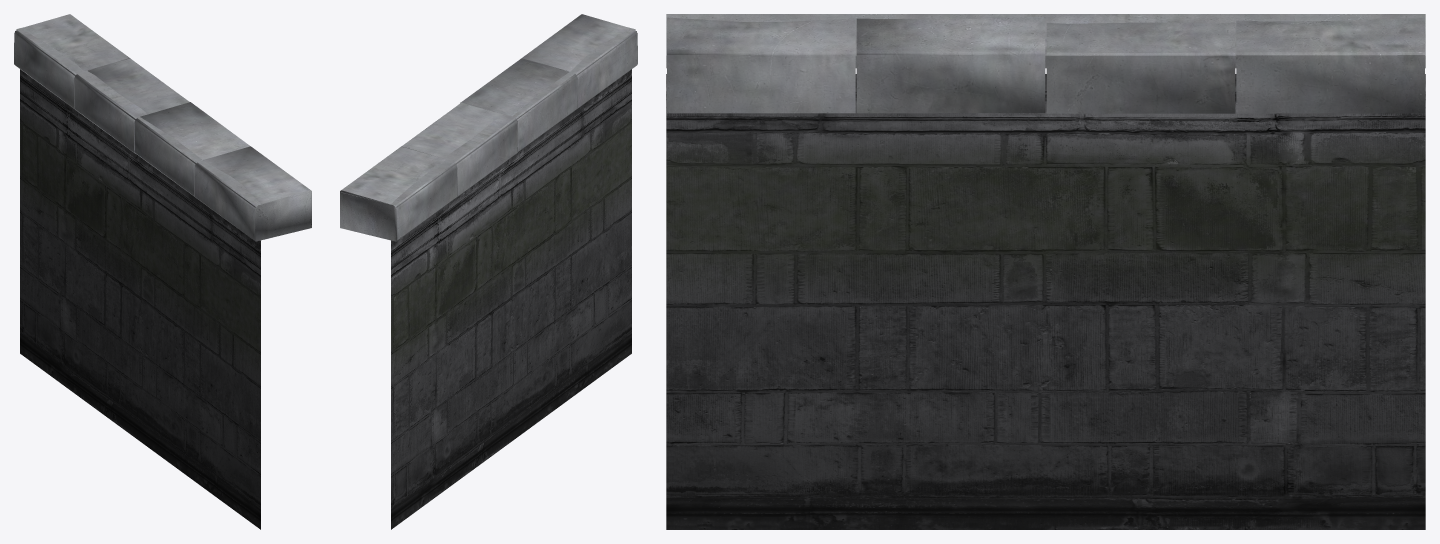
Rendered from SM_Banchina_Mod4m_LOD1.fbx.
3 renders of one model, left to right at view 1: azimuth 30°, elevation 25°; view 2: azimuth 150°, elevation 25°; view 3: azimuth 270°, elevation 25°, orthographic. The views are drawn at different scales.
Visible parts, largest first — view 1: SM_Banchina_Mod4m_LOD1; view 2: SM_Banchina_Mod4m_LOD1; view 3: SM_Banchina_Mod4m_LOD1.
Part boxes in pixels (x1,y1,x2,y2): SM_Banchina_Mod4m_LOD1: (14,14,311,529); SM_Banchina_Mod4m_LOD1: (340,14,637,529); SM_Banchina_Mod4m_LOD1: (666,14,1425,529).
Bounding box in the file's own units: 55 × 400 × 300.
Materials: 2 (2 with a texture image).
